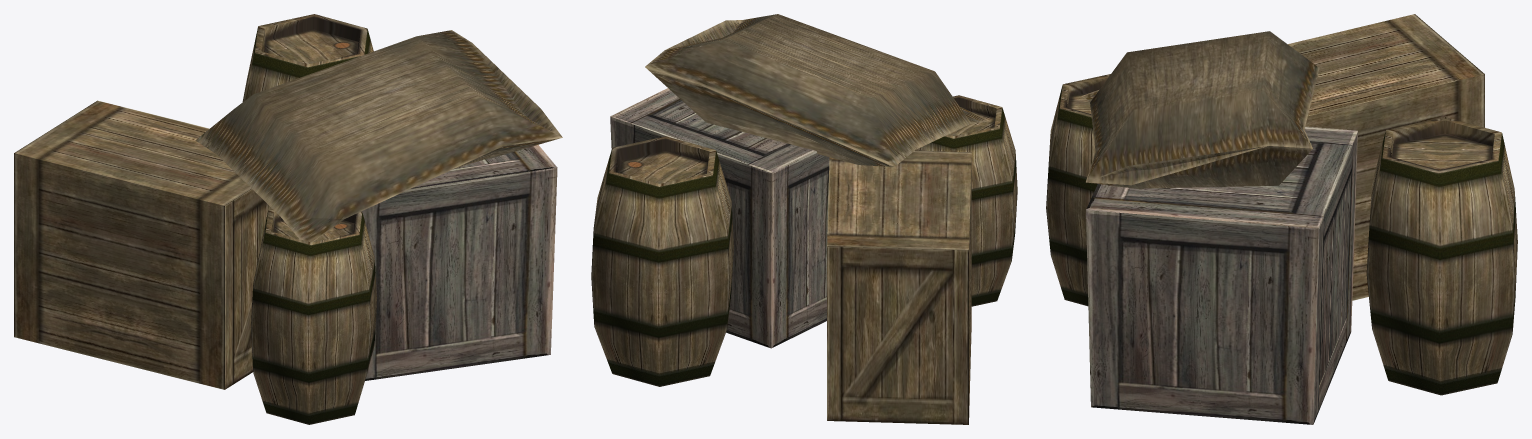
The model's file is prop_group_A.fbx.
3 views of the same model, side by side, from view 1: azimuth 30°, elevation 25°; view 2: azimuth 150°, elevation 25°; view 3: azimuth 270°, elevation 25° (orthographic). The views are drawn at different scales.
Parts seen in each view (by area): view 1: crate_Pirate, SackMesh_high, polySurface1, barrel_high1, barrel_high, top; view 2: crate_Pirate, barrel_high, SackMesh_high, polySurface1, barrel_high1, top; view 3: polySurface1, barrel_high, SackMesh_high, crate_Pirate, top, barrel_high1.
Part boxes in pixels (x1,y1,x2,y2): crate_Pirate: (14, 100, 271, 389); SackMesh_high: (195, 30, 562, 242); polySurface1: (361, 167, 557, 380); barrel_high1: (251, 209, 376, 424); barrel_high: (242, 14, 373, 101); top: (411, 145, 557, 188); crate_Pirate: (827, 150, 971, 424); barrel_high: (591, 136, 733, 386); SackMesh_high: (645, 14, 989, 166); polySurface1: (610, 116, 829, 348); barrel_high1: (915, 95, 1017, 306); top: (610, 88, 815, 172); polySurface1: (1086, 131, 1357, 424); barrel_high: (1366, 117, 1517, 395); SackMesh_high: (1081, 31, 1319, 189); crate_Pirate: (1288, 14, 1484, 300); top: (1086, 126, 1357, 228); barrel_high1: (1046, 74, 1110, 306).
Size of the model in its own units: 871 by 535 by 793.
1 material, 1 textured.
